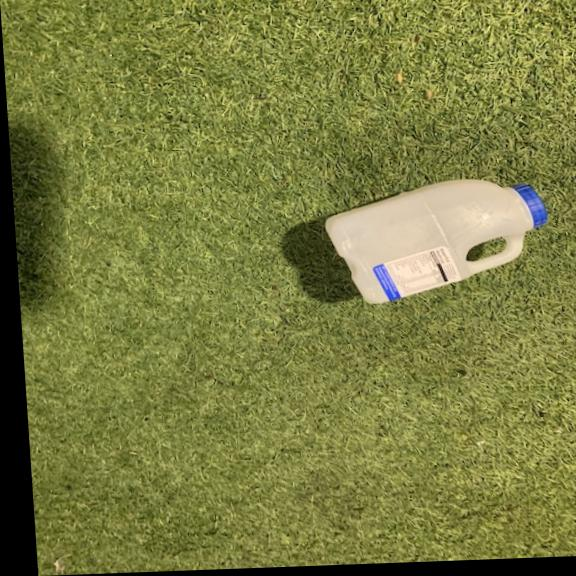Plastik: (321, 174, 557, 309)
